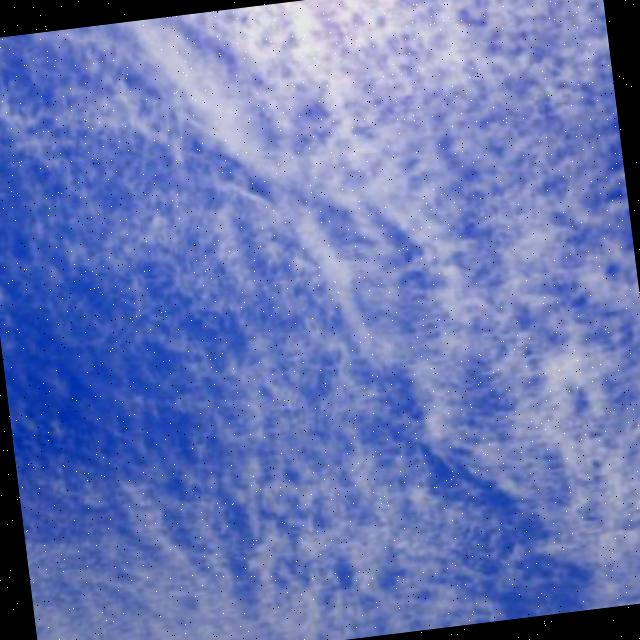Cc: (1, 13, 640, 640)
